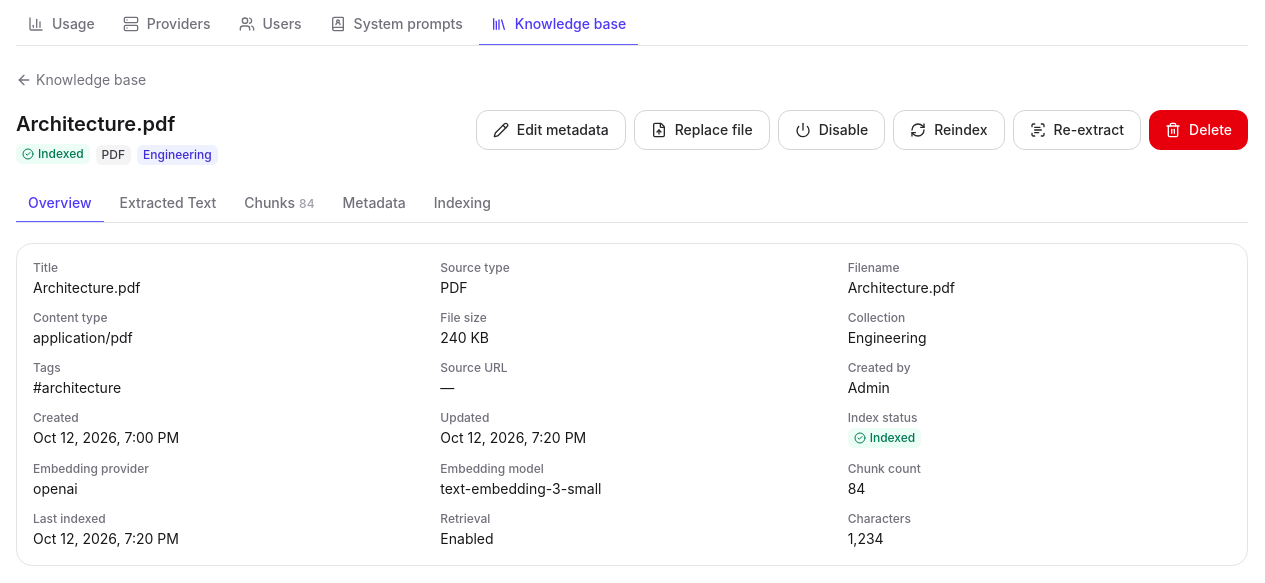
it: KnowledgeSourcePage › shows the extracted text with character and token counts
Click the tab "Extracted Text".
click(168, 204)  # box 108,185 -> 228,223
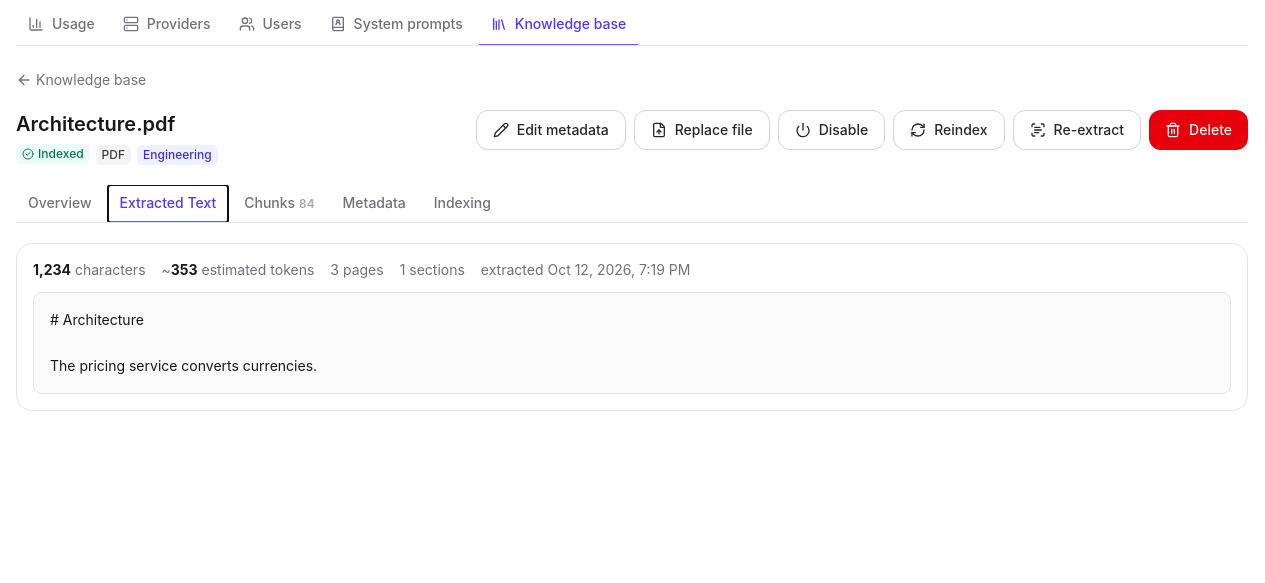
Check: the text named "Extracted text" shows "The pricing service converts currencies.", box 50,311 -> 317,374
Check: the panel shows "~353 estimated tokens", box 16,243 -> 1248,411
Check: the panel shows "3 pages", box 16,243 -> 1248,411
